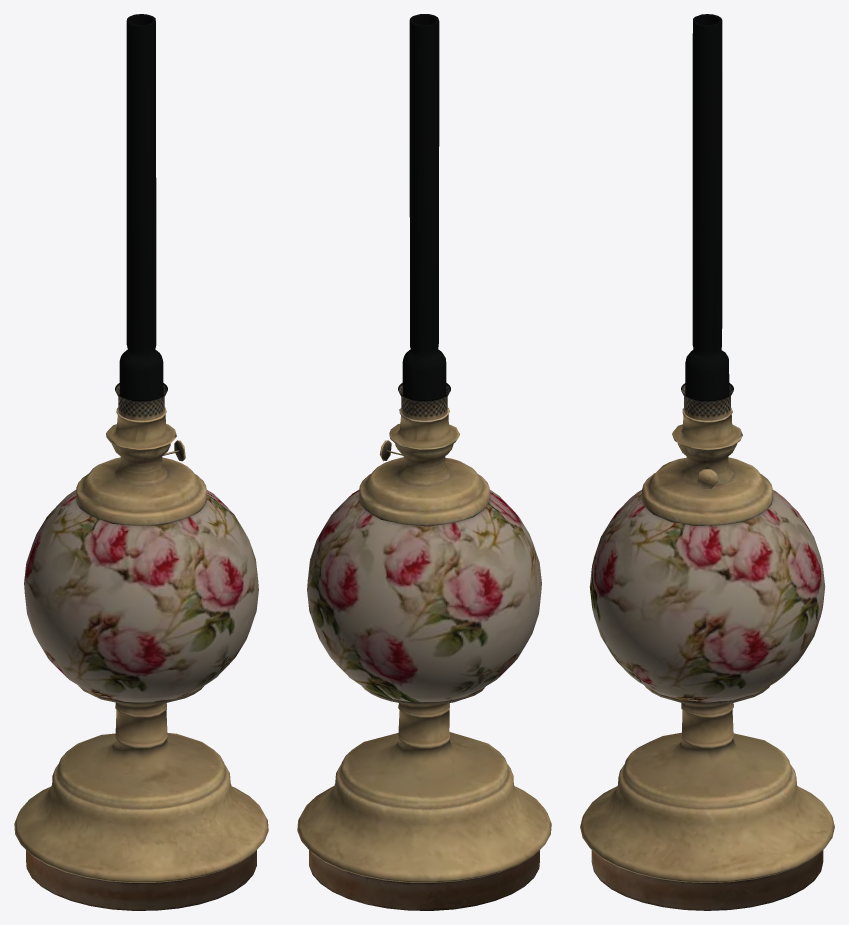
The model's file is vintage_oil_lamp.glb.
The picture shows the model from 3 angles, left to right: view 1: azimuth 30°, elevation 25°; view 2: azimuth 150°, elevation 25°; view 3: azimuth 270°, elevation 25°; orthographic projection.
Parts seen in each view (by area): view 1: vintage_oil_lamp, vintage_oil_lamp_glass; view 2: vintage_oil_lamp, vintage_oil_lamp_glass; view 3: vintage_oil_lamp, vintage_oil_lamp_glass.
Part boxes in pixels (x1,y1,x2,y2): vintage_oil_lamp: [14, 407, 268, 910]; vintage_oil_lamp_glass: [115, 14, 167, 420]; vintage_oil_lamp: [297, 407, 551, 910]; vintage_oil_lamp_glass: [398, 14, 450, 420]; vintage_oil_lamp: [580, 407, 834, 910]; vintage_oil_lamp_glass: [681, 14, 733, 420].
Bounding box in the file's own units: 0.22 × 0.8016 × 0.22.
3 materials, 3 textured.
